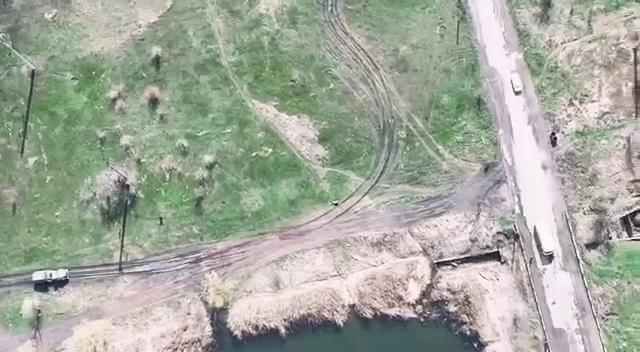vehicle: (532, 221, 556, 256), (30, 267, 69, 283), (510, 72, 524, 94)
